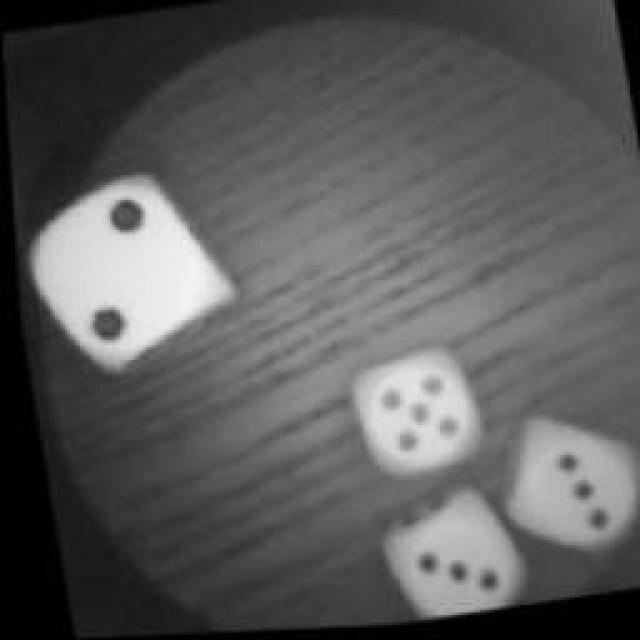dice_2: (10, 160, 235, 382)
dice_3: (352, 480, 526, 630), (485, 411, 640, 571)
dice_5: (333, 336, 485, 486)
